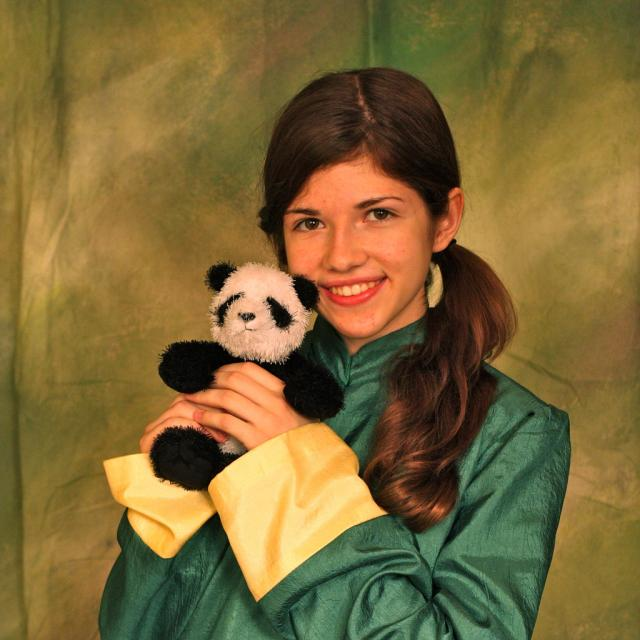panda: (149, 261, 341, 495)
